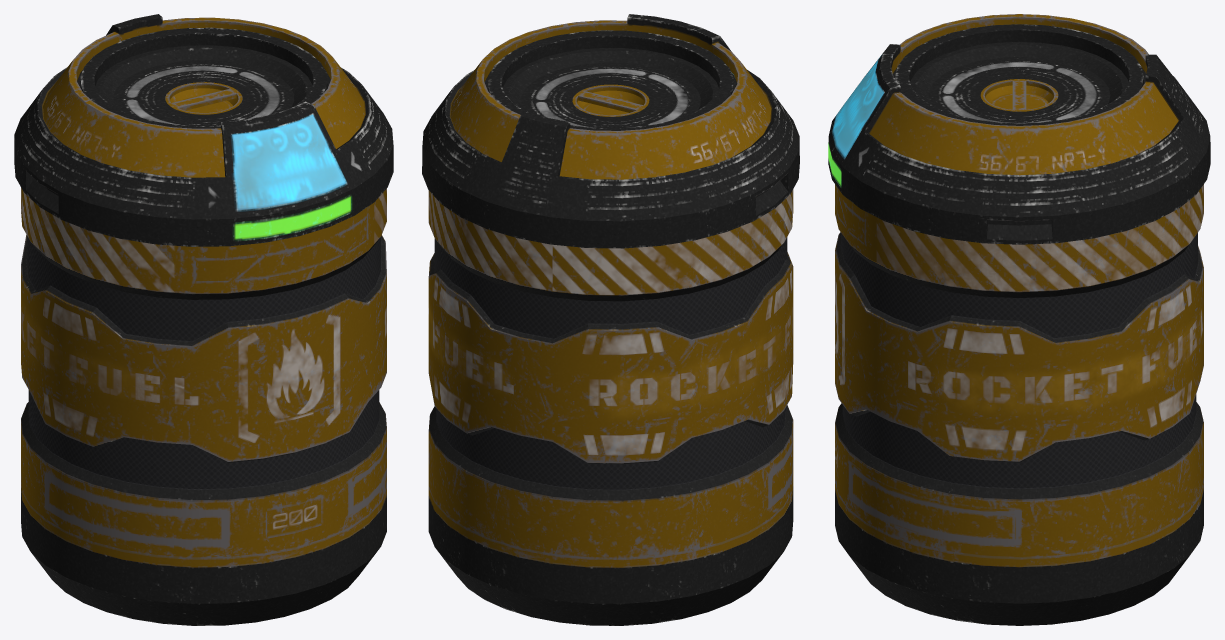
3 renders of one model, left to right at view 1: azimuth 30°, elevation 25°; view 2: azimuth 150°, elevation 25°; view 3: azimuth 270°, elevation 25°, orthographic.
Visible parts, largest first — view 1: Barrel_low, Cap_low, Bung_low; view 2: Barrel_low, Cap_low, Bung_low; view 3: Barrel_low, Cap_low, Bung_low.
Part boxes in pixels (x1,y1,x2,y2): Barrel_low: (14,14,393,625); Cap_low: (77,27,330,128); Bung_low: (165,82,242,114); Barrel_low: (422,14,799,625); Cap_low: (484,30,737,130); Bung_low: (572,84,649,116); Barrel_low: (828,14,1210,625); Cap_low: (893,24,1145,125); Bung_low: (980,79,1058,111).
Size of the model in its own units: 57.02 by 81.01 by 57.02.
Materials: 1 (1 with a texture image).
